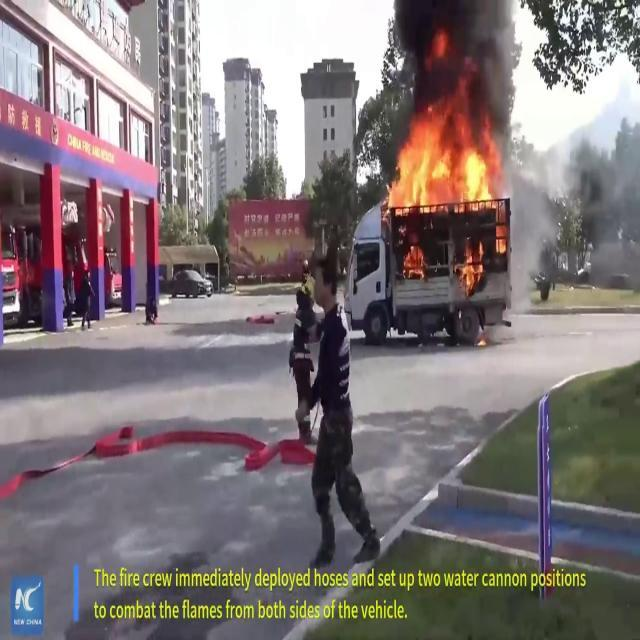Fire: (385, 102, 503, 232)
Smoke: (521, 82, 640, 282), (381, 0, 527, 130)
